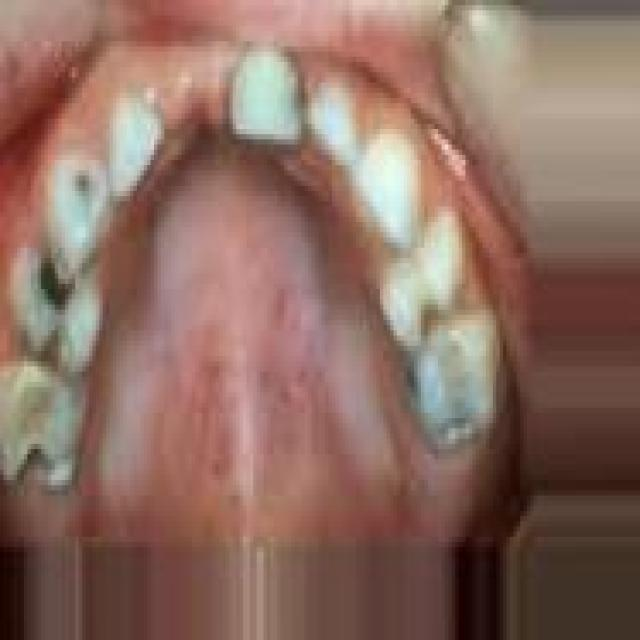caries: (410, 292, 491, 451), (0, 351, 79, 495), (12, 236, 97, 364), (54, 142, 110, 255)
